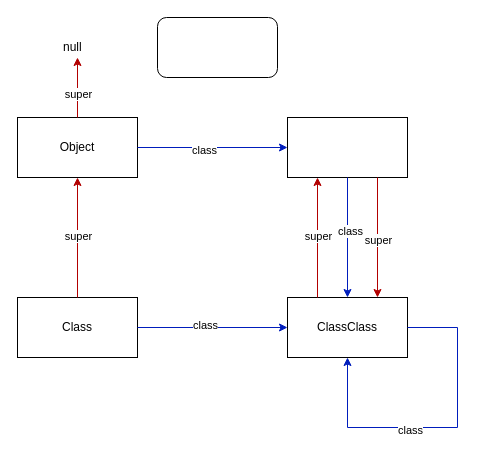
Some shapes in this 483 by 454 pixel diagram are drawn without their labels. The box of each missing label's shape, as (x1, y1, x2, y2) in pixels:
MOP v1.0 quadrant magique: (156, 16, 278, 78)
ObjectClass: (286, 116, 408, 178)
